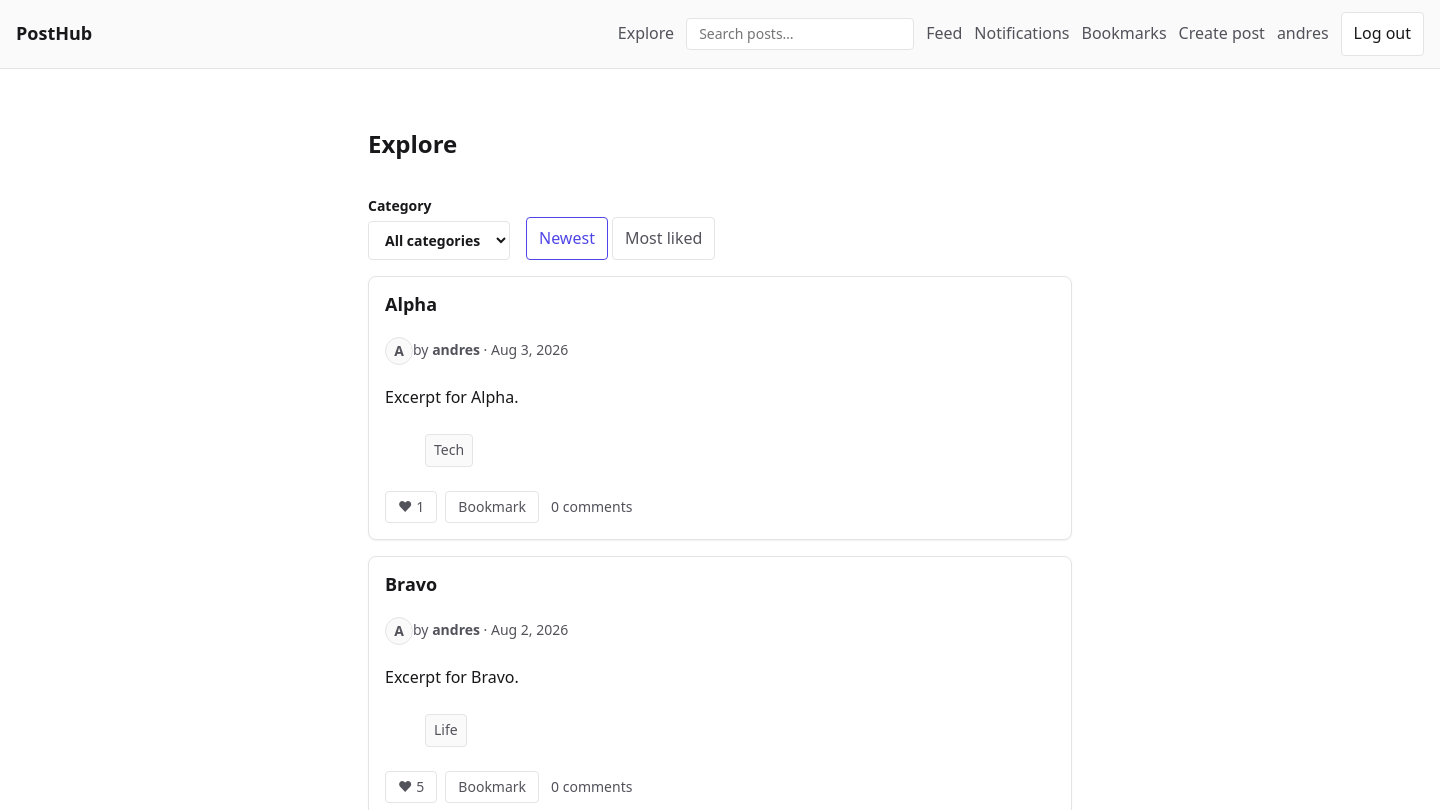
Test: engagement › optimistically toggles a like and reconciles with the server count
Check: the link "Alpha" is shown, box [385, 292, 437, 316]
What coordinates should you click on to do the following:
click the button named "Like"
I would click on:
 (411, 507)
Its box is [385, 491, 437, 523].
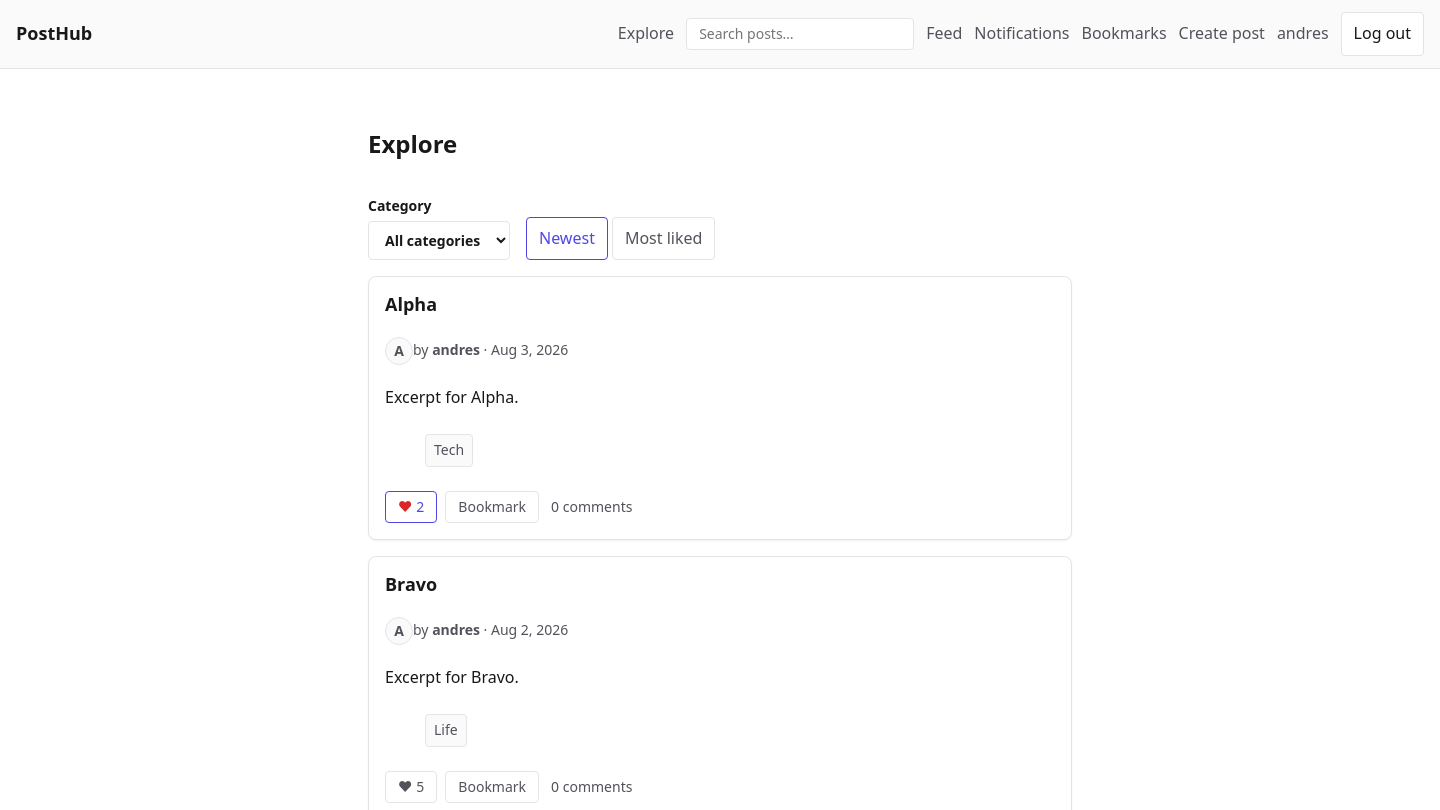
Check: the button named "Like" shows "2"
What coordinates should you click on to do the following:
click the button named "Like"
I would click on:
 (411, 507)
Its box is [385, 491, 437, 523].
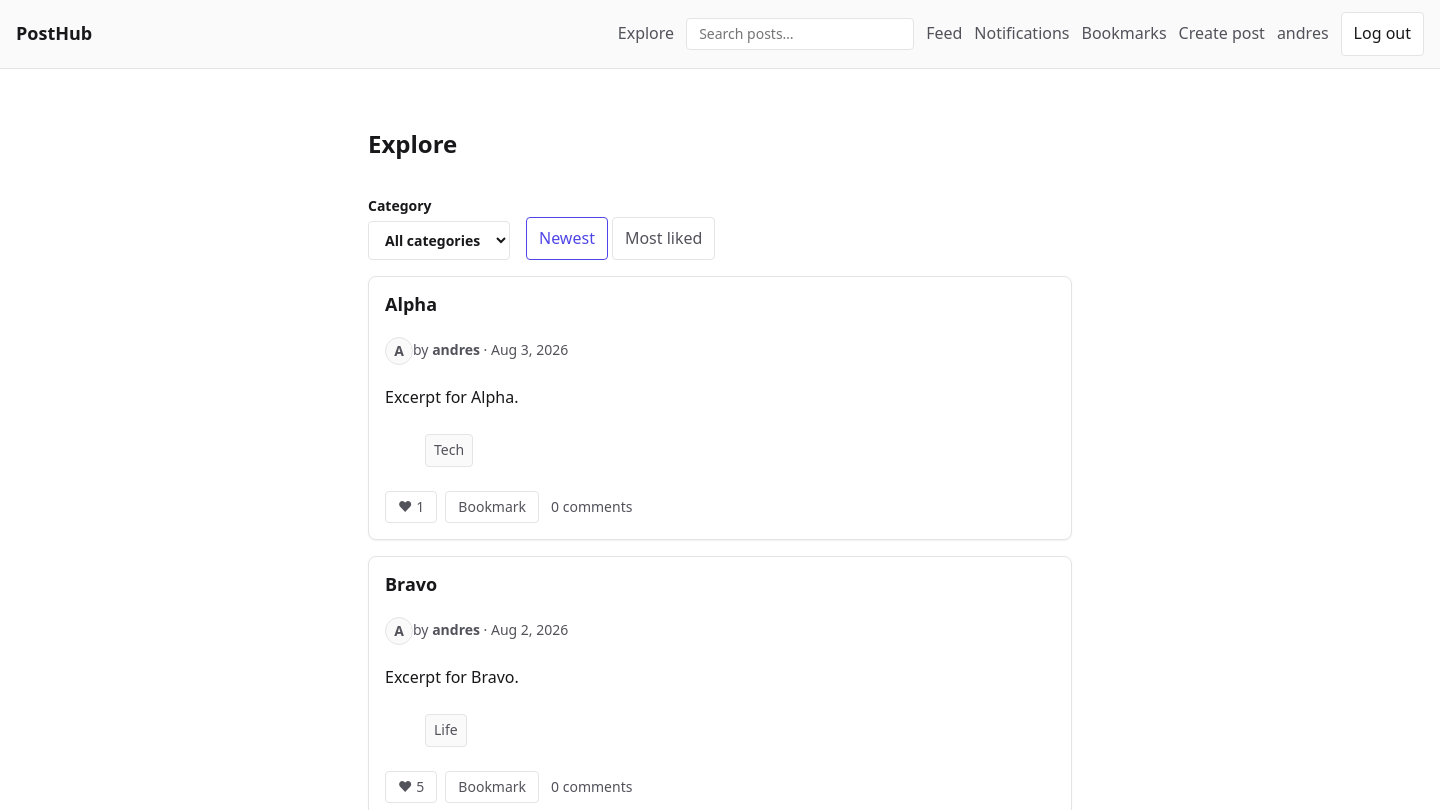
Check: the button named "Like" shows "1", box [385, 491, 437, 523]
